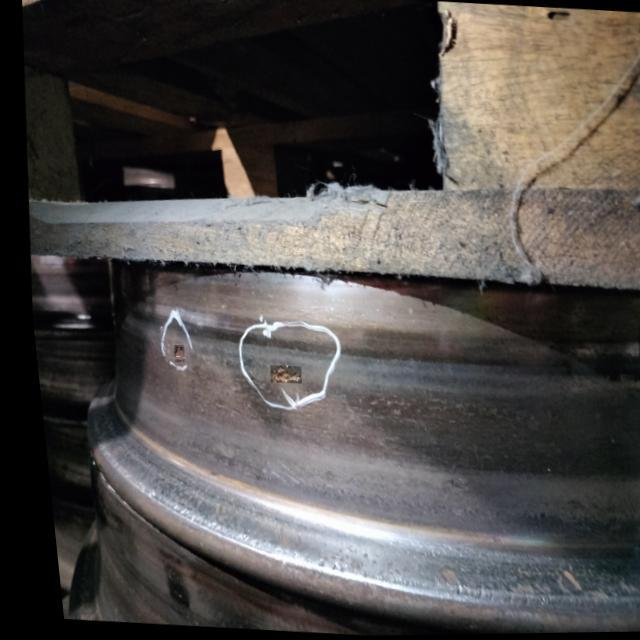Blue hole: (166, 346, 193, 364)
Peeling: (262, 366, 308, 391)
